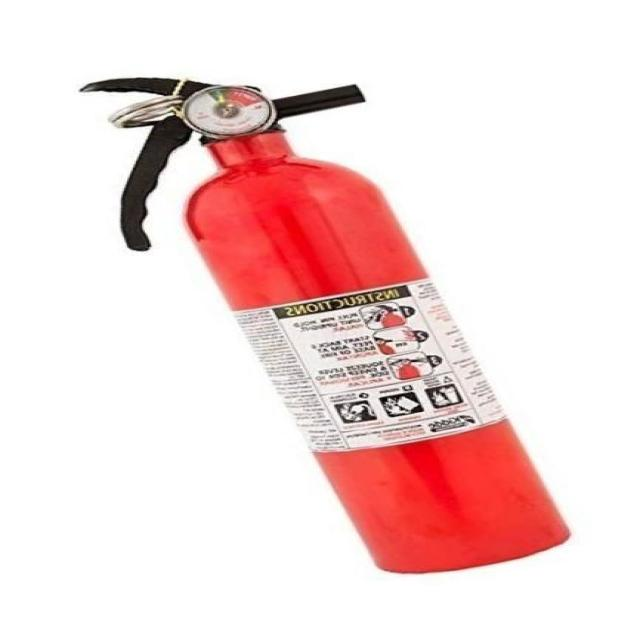fire_extinguisher: (65, 69, 588, 582)
